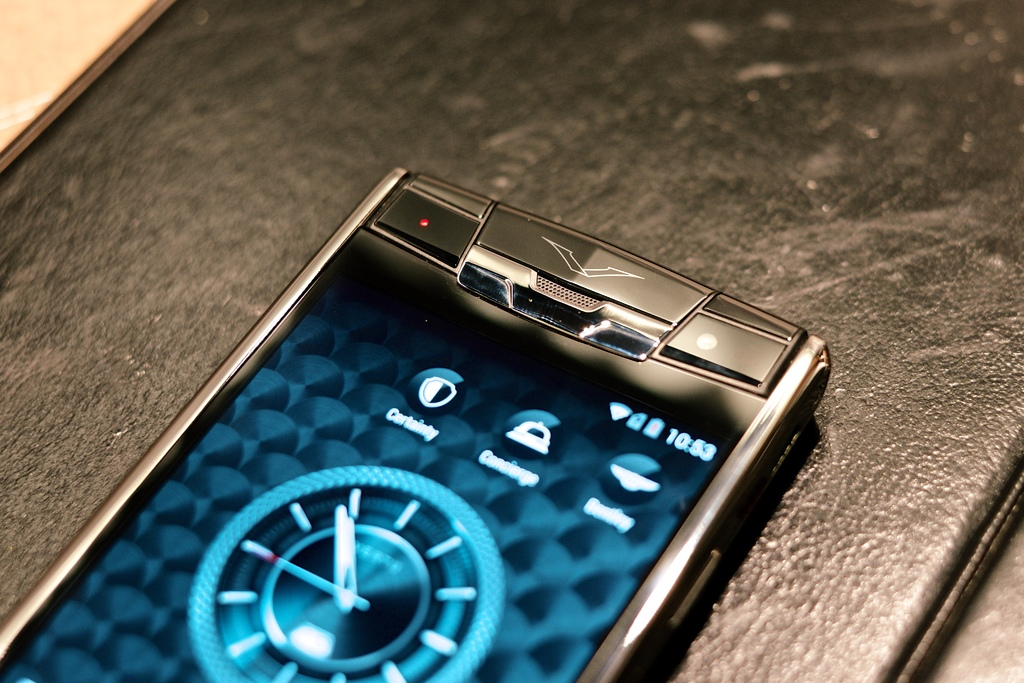Mobile-phone: (0, 162, 799, 683)
